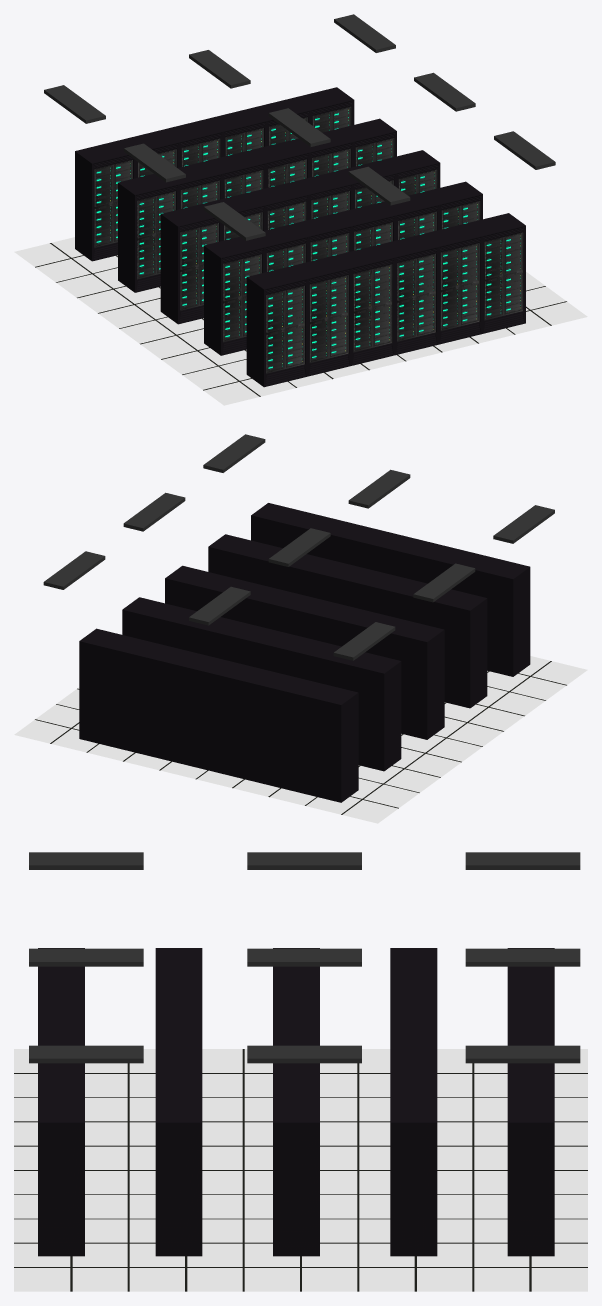
File: Data-transformed.glb
3 views of the same model, one above another, from view 1: azimuth 30°, elevation 25°; view 2: azimuth 150°, elevation 25°; view 3: azimuth 270°, elevation 25° (orthographic). The views are drawn at different scales.
Parts seen in each view (by area): view 1: Cluster_MetalCase_0, Cluster_Frente_0, Cluster_Verde_0; view 2: Cluster_MetalCase_0; view 3: Cluster_MetalCase_0.
Boxes of the visible parts, x1=… form: Cluster_MetalCase_0: x1=14, y1=14, x2=587, y2=405; Cluster_Frente_0: x1=94, y1=107, x2=523, y2=373; Cluster_Verde_0: x1=96, y1=110, x2=520, y2=368; Cluster_MetalCase_0: x1=14, y1=434, x2=587, y2=823; Cluster_MetalCase_0: x1=14, y1=852, x2=587, y2=1291.
Size of the model in its own units: 44 by 18.19 by 44.
Materials: 5 (5 with a texture image).
